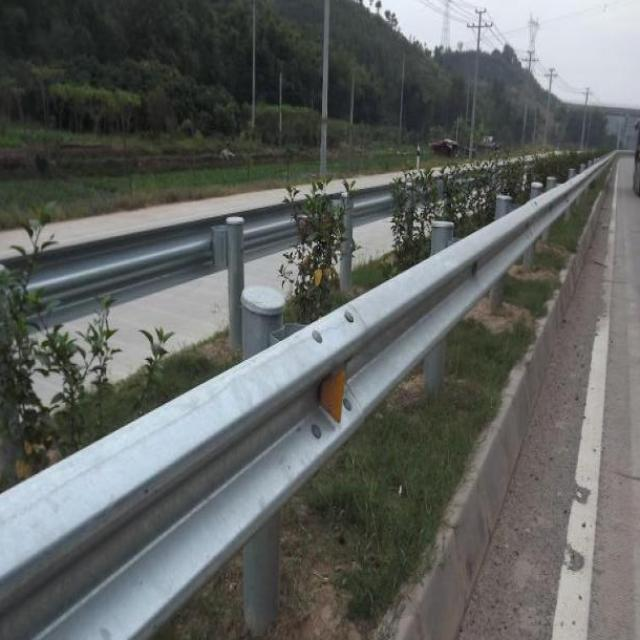Guard rail: (0, 157, 614, 640), (31, 206, 227, 324), (240, 204, 296, 259), (355, 186, 393, 224)
